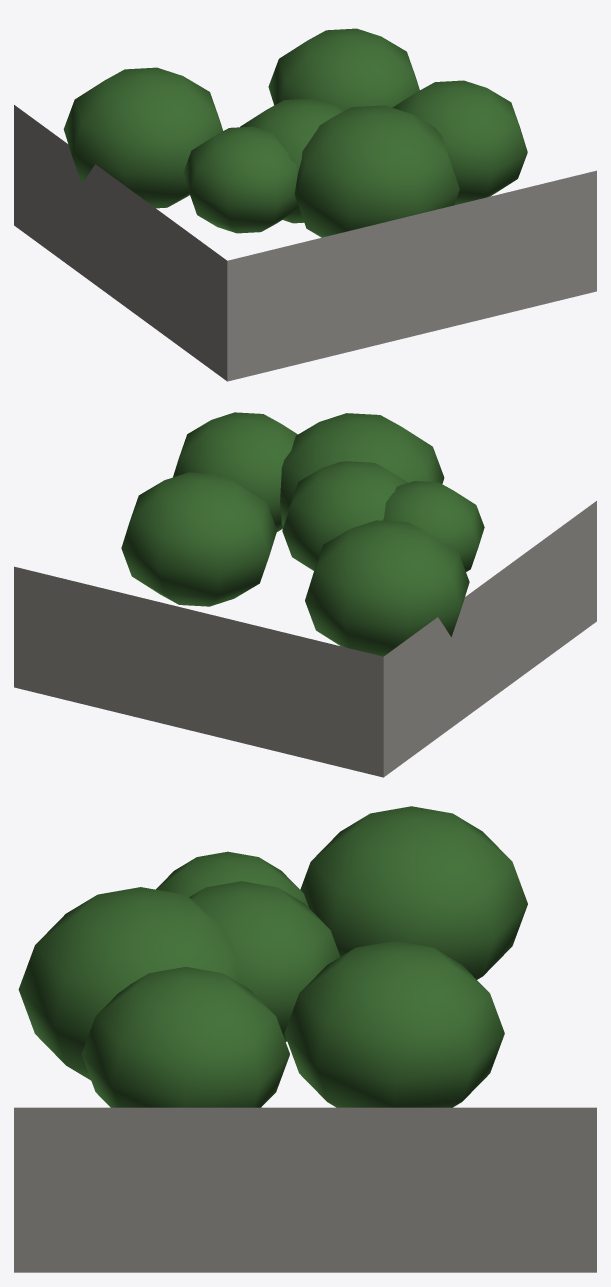
The model's file is planter.glb.
3 views of the same model, one above another, from view 1: azimuth 30°, elevation 25°; view 2: azimuth 150°, elevation 25°; view 3: azimuth 270°, elevation 25° (orthographic). The views are drawn at different scales.
Parts seen in each view (by area): view 1: planter; view 2: planter; view 3: planter.
Boxes of the visible parts, x1,y1,x2,y2 form: planter: [14, 28, 596, 381]; planter: [14, 412, 596, 777]; planter: [14, 806, 596, 1272].
Bounding box in the file's own units: 1.64 × 0.7683 × 1.6.
